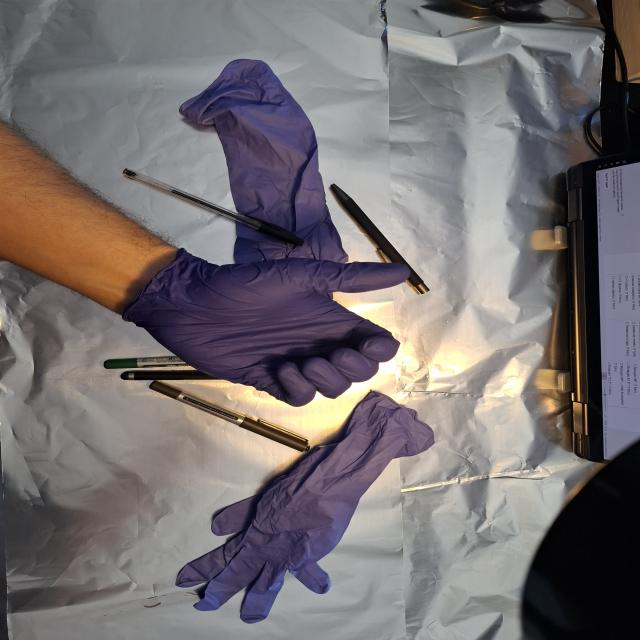glove_on: (118, 247, 414, 409)
